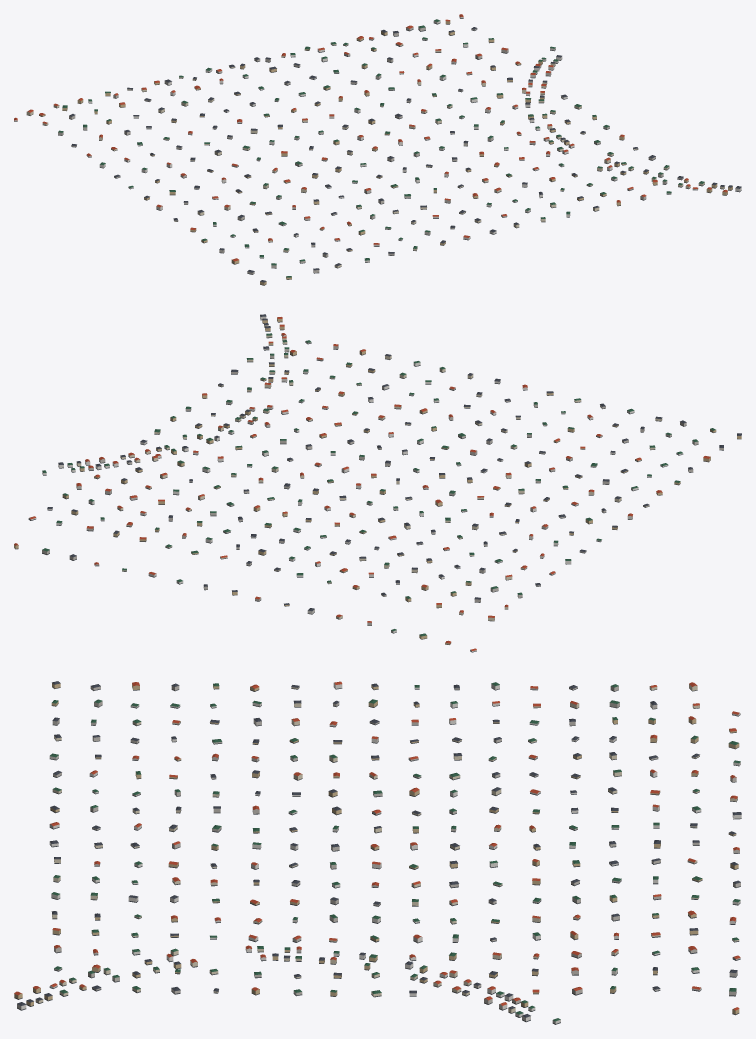
File: buildings_T_W02_S02.glb
3 renders of one model, top to bottom at view 1: azimuth 30°, elevation 25°; view 2: azimuth 150°, elevation 25°; view 3: azimuth 270°, elevation 25°, orthographic. The views are drawn at different scales.
Parts seen in each view (by area): view 1: T_W02_S02_slope_seating_foundations, T_W02_S02_roofs_roof_slate_French_villa_hip, T_W02_S02_roofs_roof_pine_green_hip, T_W02_S02_walls_wall_french_ochre_villa, T_W02_S02_roofs_roof_terracotta_gable, T_W02_S02_walls_wall_modern_warm_white, T_W02_S02_walls_wall_pastel_sand_gray, T_W02_S02_walls_wall_dalat_cream_stucco; view 2: T_W02_S02_slope_seating_foundations, T_W02_S02_roofs_roof_slate_French_villa_hip, T_W02_S02_roofs_roof_pine_green_hip, T_W02_S02_walls_wall_french_ochre_villa, T_W02_S02_roofs_roof_terracotta_gable, T_W02_S02_walls_wall_modern_warm_white, T_W02_S02_walls_wall_pastel_sand_gray, T_W02_S02_walls_wall_dalat_cream_stucco; view 3: T_W02_S02_slope_seating_foundations, T_W02_S02_roofs_roof_slate_French_villa_hip, T_W02_S02_roofs_roof_pine_green_hip, T_W02_S02_walls_wall_french_ochre_villa, T_W02_S02_roofs_roof_terracotta_gable, T_W02_S02_walls_wall_modern_warm_white, T_W02_S02_walls_wall_pastel_sand_gray, T_W02_S02_walls_wall_dalat_cream_stucco.
Part boxes in pixels (x1,y1,x2,y2): T_W02_S02_slope_seating_foundations: [14, 17, 741, 285]; T_W02_S02_roofs_roof_slate_French_villa_hip: [69, 27, 741, 282]; T_W02_S02_roofs_roof_pine_green_hip: [58, 19, 704, 277]; T_W02_S02_walls_wall_french_ochre_villa: [39, 20, 732, 285]; T_W02_S02_roofs_roof_terracotta_gable: [14, 14, 727, 261]; T_W02_S02_walls_wall_modern_warm_white: [14, 16, 741, 262]; T_W02_S02_walls_wall_pastel_sand_gray: [58, 27, 683, 274]; T_W02_S02_walls_wall_dalat_cream_stucco: [26, 43, 724, 267]; T_W02_S02_slope_seating_foundations: [14, 318, 741, 652]; T_W02_S02_roofs_roof_slate_French_villa_hip: [47, 314, 741, 611]; T_W02_S02_roofs_roof_pine_green_hip: [42, 333, 715, 636]; T_W02_S02_walls_wall_french_ochre_villa: [14, 317, 741, 644]; T_W02_S02_roofs_roof_terracotta_gable: [14, 317, 710, 650]; T_W02_S02_walls_wall_modern_warm_white: [28, 316, 683, 651]; T_W02_S02_walls_wall_pastel_sand_gray: [42, 341, 723, 625]; T_W02_S02_walls_wall_dalat_cream_stucco: [76, 324, 662, 620]; T_W02_S02_slope_seating_foundations: [14, 687, 741, 1024]; T_W02_S02_roofs_roof_slate_French_villa_hip: [17, 681, 741, 1017]; T_W02_S02_roofs_roof_pine_green_hip: [50, 682, 740, 1021]; T_W02_S02_walls_wall_french_ochre_villa: [14, 683, 739, 1014]; T_W02_S02_roofs_roof_terracotta_gable: [14, 681, 740, 1010]; T_W02_S02_walls_wall_modern_warm_white: [17, 683, 741, 1023]; T_W02_S02_walls_wall_pastel_sand_gray: [52, 685, 740, 1004]; T_W02_S02_walls_wall_dalat_cream_stucco: [35, 684, 739, 1012].
Size of the model in its own units: 1813 by 115 by 1751.
